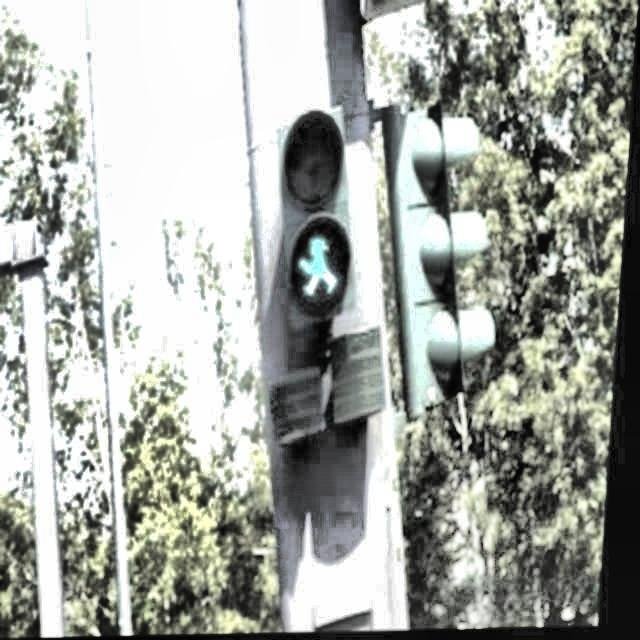semaforo pedestre: (197, 79, 435, 371)
